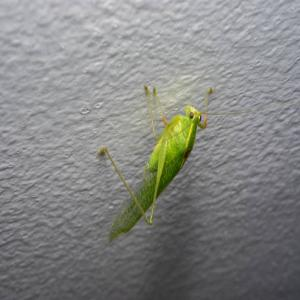locust: (90, 69, 227, 252)
